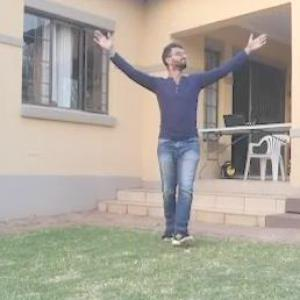takeoff: (89, 42, 252, 249)
